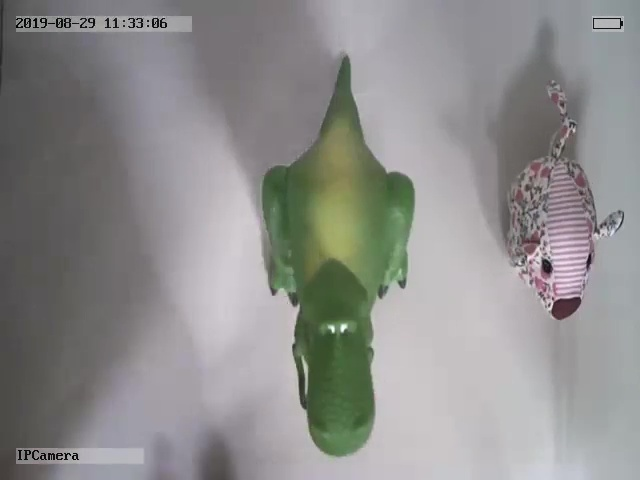pig: (504, 78, 625, 321)
rex: (256, 55, 416, 459)
